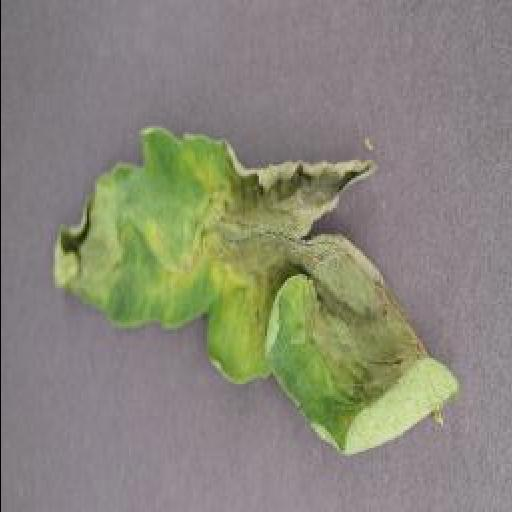disease_tomato: (54, 124, 460, 462)
